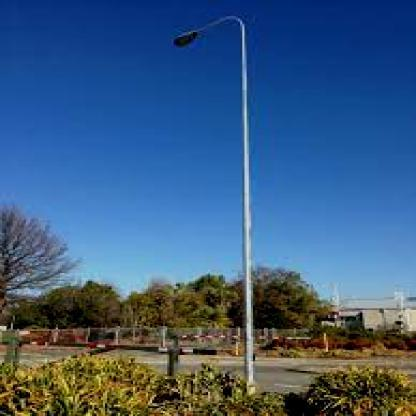light_pole: (172, 15, 258, 394)
